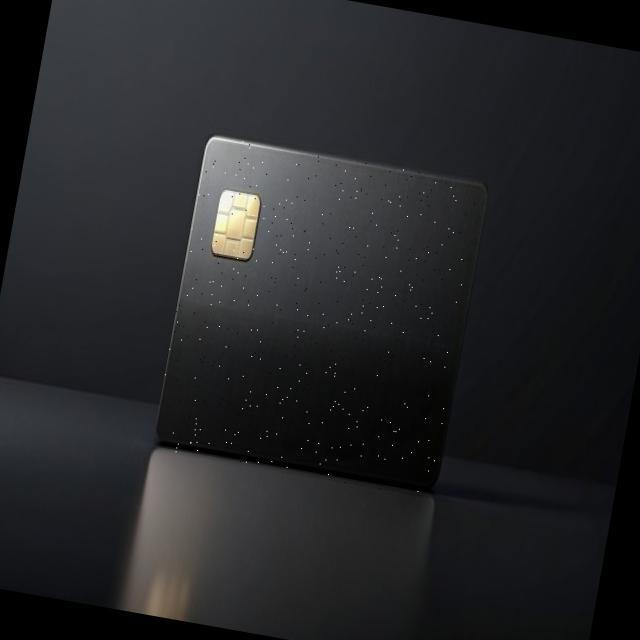payment_card: (154, 133, 488, 491)
